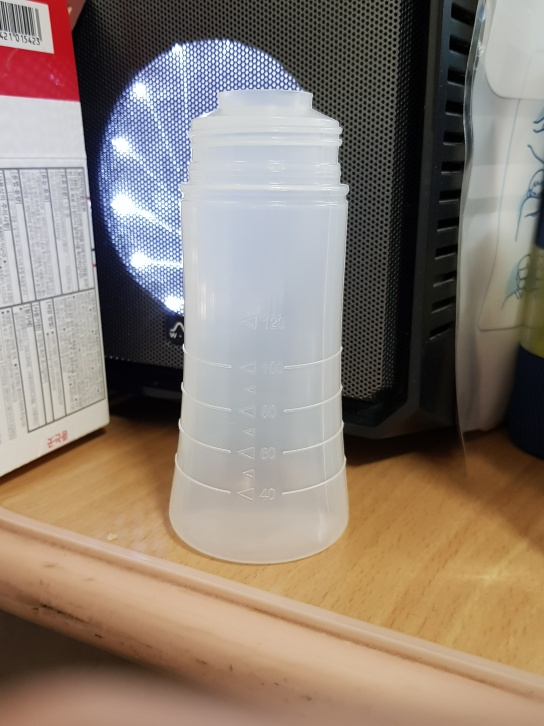Plastic: (164, 86, 354, 570)
